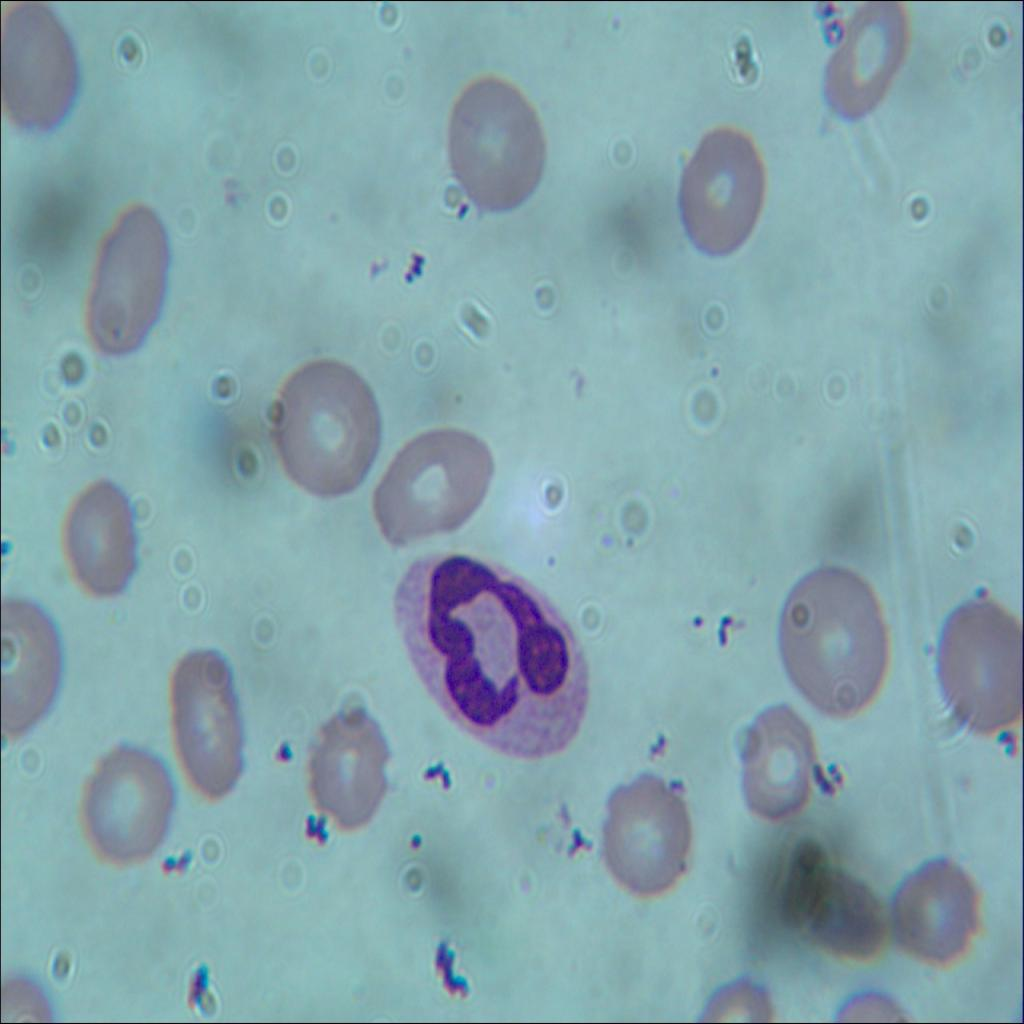Eritrosit: (366, 412, 496, 554), (270, 352, 386, 502), (778, 554, 884, 714), (78, 195, 176, 364), (444, 70, 548, 208), (164, 646, 250, 806), (303, 698, 394, 840), (75, 735, 175, 864), (596, 769, 689, 901), (0, 0, 88, 138), (941, 591, 1023, 738), (56, 472, 142, 612), (678, 122, 766, 255), (893, 854, 989, 972), (826, 0, 910, 128), (736, 701, 819, 821), (802, 872, 883, 964)
Neutrofil: (389, 541, 590, 769)
Platelet: (538, 541, 574, 594), (988, 716, 1023, 757), (398, 822, 432, 856), (973, 579, 1001, 612), (679, 604, 711, 632), (619, 524, 643, 559), (274, 732, 298, 764), (591, 518, 614, 548), (703, 354, 722, 388)
